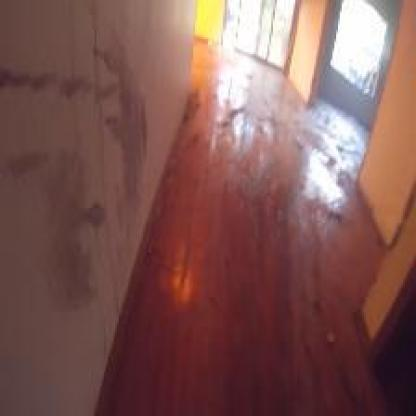other: (187, 0, 235, 58), (160, 259, 201, 311)
